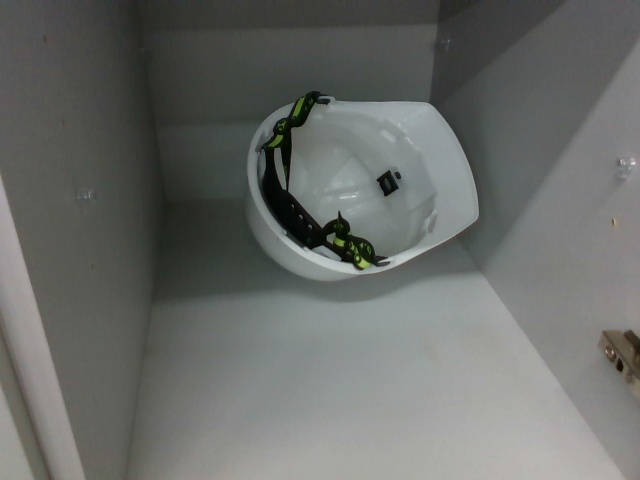helmet: (242, 87, 488, 291)
